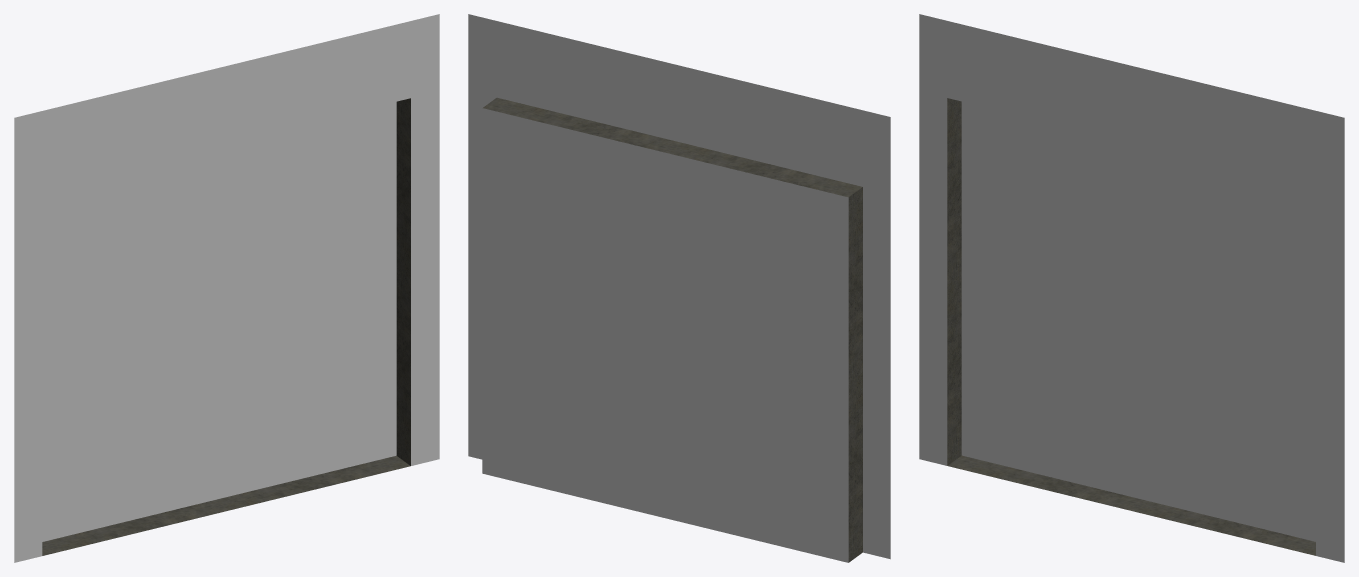
The model's file is CT_door_14.fbx.
3 views of the same model, side by side, from view 1: azimuth 30°, elevation 25°; view 2: azimuth 150°, elevation 25°; view 3: azimuth 330°, elevation 25° (orthographic).
Parts seen in each view (by area): view 1: CT_door_14; view 2: CT_door_14; view 3: CT_door_14.
Boxes of the visible parts, <box> form: CT_door_14: <box>14,14,439,562</box>; CT_door_14: <box>468,14,890,562</box>; CT_door_14: <box>919,14,1344,562</box>.
Size of the model in its own units: 256 by 256 by 15.
